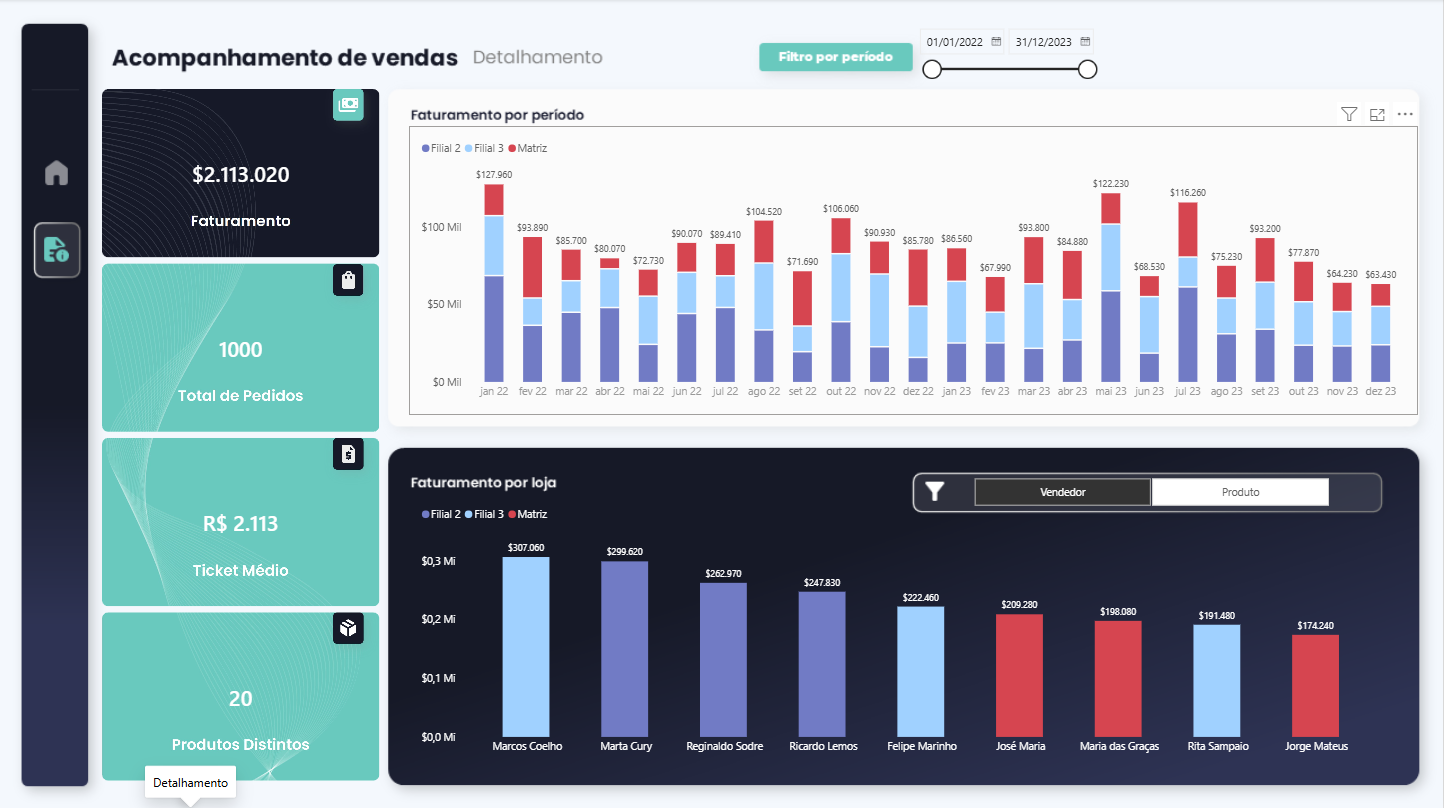

The dashboard page shown, as its layout file describes it:
{"tool":"powerbi","page":{"name":"Detalhamento","canvas":[1920,1080],"ordinal":1},"visuals":[{"type":"slicer","fields":{"Values":["dCalendario.Date"]},"box":[1217,34.6,246.4,75.6],"z":0},{"type":"actionButton","box":[40.8,198,72.6,75.6],"z":1},{"type":"columnChart","fields":{"Category":["dCalendario.MêsAno"],"Series":["dLoja.TipoLoja"],"Y":["Medidas.faturamento"]},"box":[545.3,168.9,1342,384.4],"z":2},{"type":"columnChart","fields":{"Category":["dVendedor.NomeVendedor"],"Series":["dLoja.TipoLoja"],"Y":["Medidas.faturamento"]},"box":[545.3,655.7,1308.8,369.8],"z":3},{"type":"slicer","fields":{"Values":["Filtro_Vendor_Produto.Filtro_Vendor_Produto"]},"box":[1277.3,636.2,510.9,39.6],"z":5},{"type":"cardVisual","fields":{"Data":["Medidas.faturamento","Medidas.qtde_pedidos","Medidas.ticket_medio","Medidas.produtos_distintos"]},"box":[137,119.7,369.8,921.7],"z":6}]}

Visuals, with their boxes on the page's 1920x1080 design canvas (x1, y1, x2, y2). These are canvas units, not pixel positions in the 1444x808 screenshot, which may show the page scaled, cropped or inside an application window:
slicer - dCalendario.Date: pyautogui.locateOnScreen(1217, 35, 1463, 110)
actionButton: pyautogui.locateOnScreen(41, 198, 113, 274)
columnChart - dCalendario.MêsAno x dLoja.TipoLoja: pyautogui.locateOnScreen(545, 169, 1887, 553)
columnChart - dVendedor.NomeVendedor x dLoja.TipoLoja: pyautogui.locateOnScreen(545, 656, 1854, 1026)
slicer - Filtro_Vendor_Produto.Filtro_Vendor_Produto: pyautogui.locateOnScreen(1277, 636, 1788, 676)
cardVisual - Medidas.faturamento x Medidas.qtde_pedidos: pyautogui.locateOnScreen(137, 120, 507, 1041)
